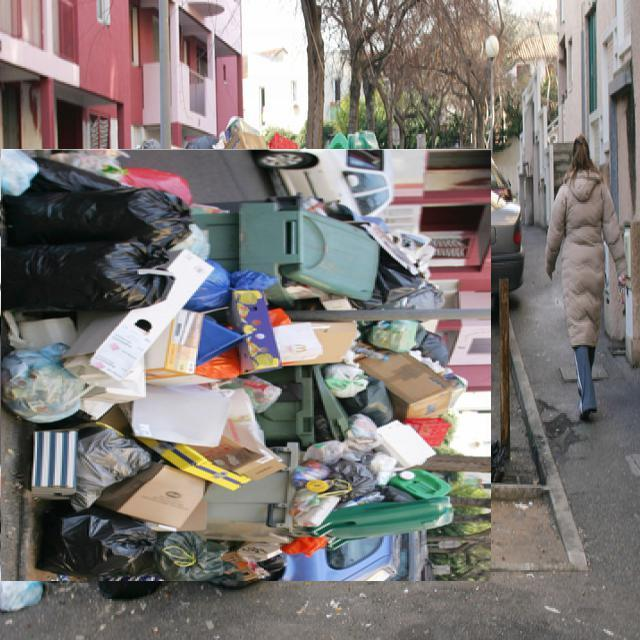Trashbag: (8, 237, 174, 322), (7, 186, 185, 245), (40, 504, 146, 574), (134, 530, 209, 570)
